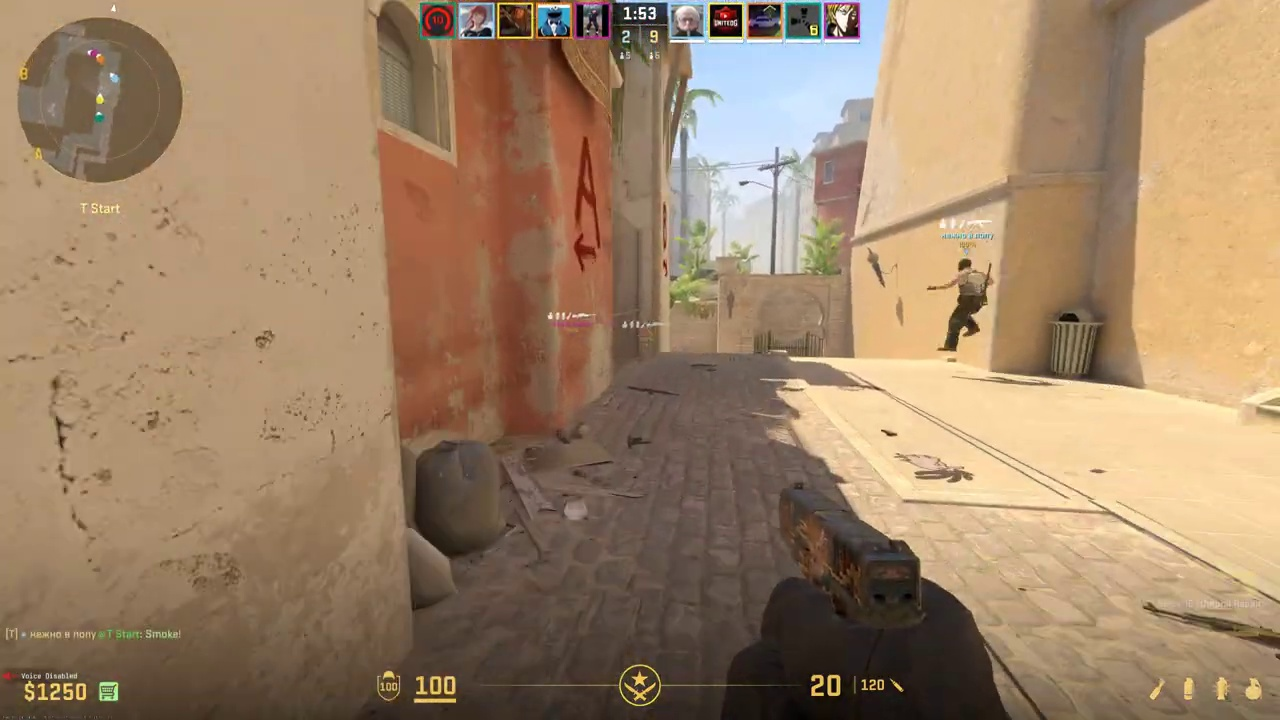Terrorist: (946, 259, 986, 351)
